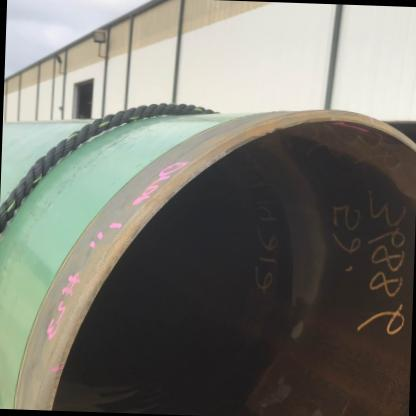Bevel: (248, 114, 301, 146)
